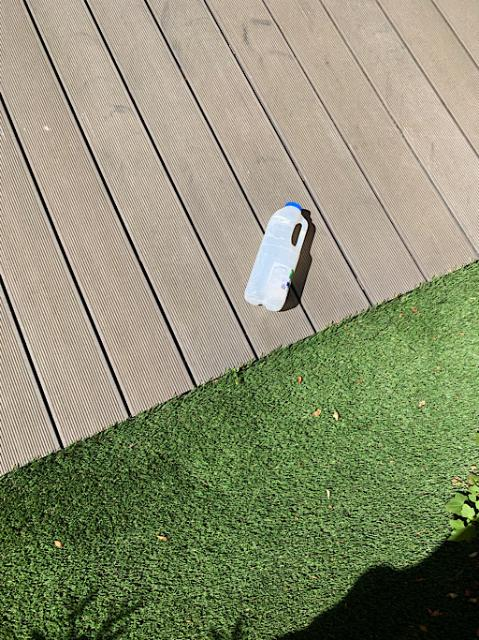plastic: (244, 204, 306, 309)
